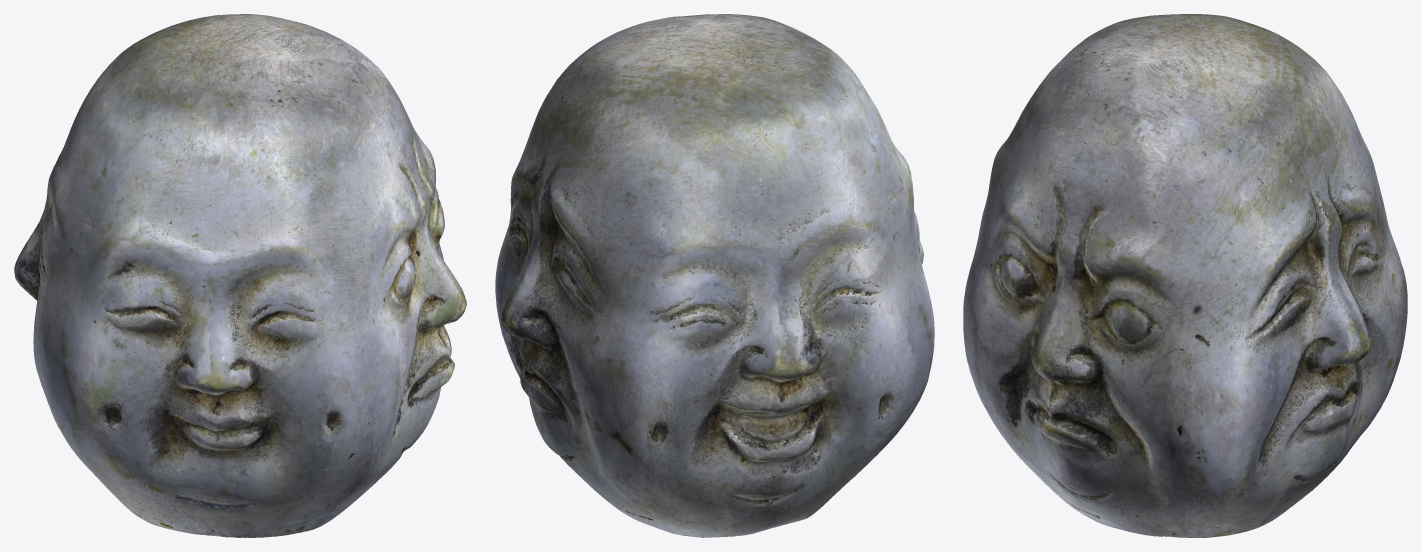
The model's file is buddha-web.glb.
3 renders of one model, left to right at view 1: azimuth 30°, elevation 25°; view 2: azimuth 150°, elevation 25°; view 3: azimuth 270°, elevation 25°, orthographic.
Size of the model in its own units: 20.75 by 22.88 by 20.07.
1 material, 1 textured.
